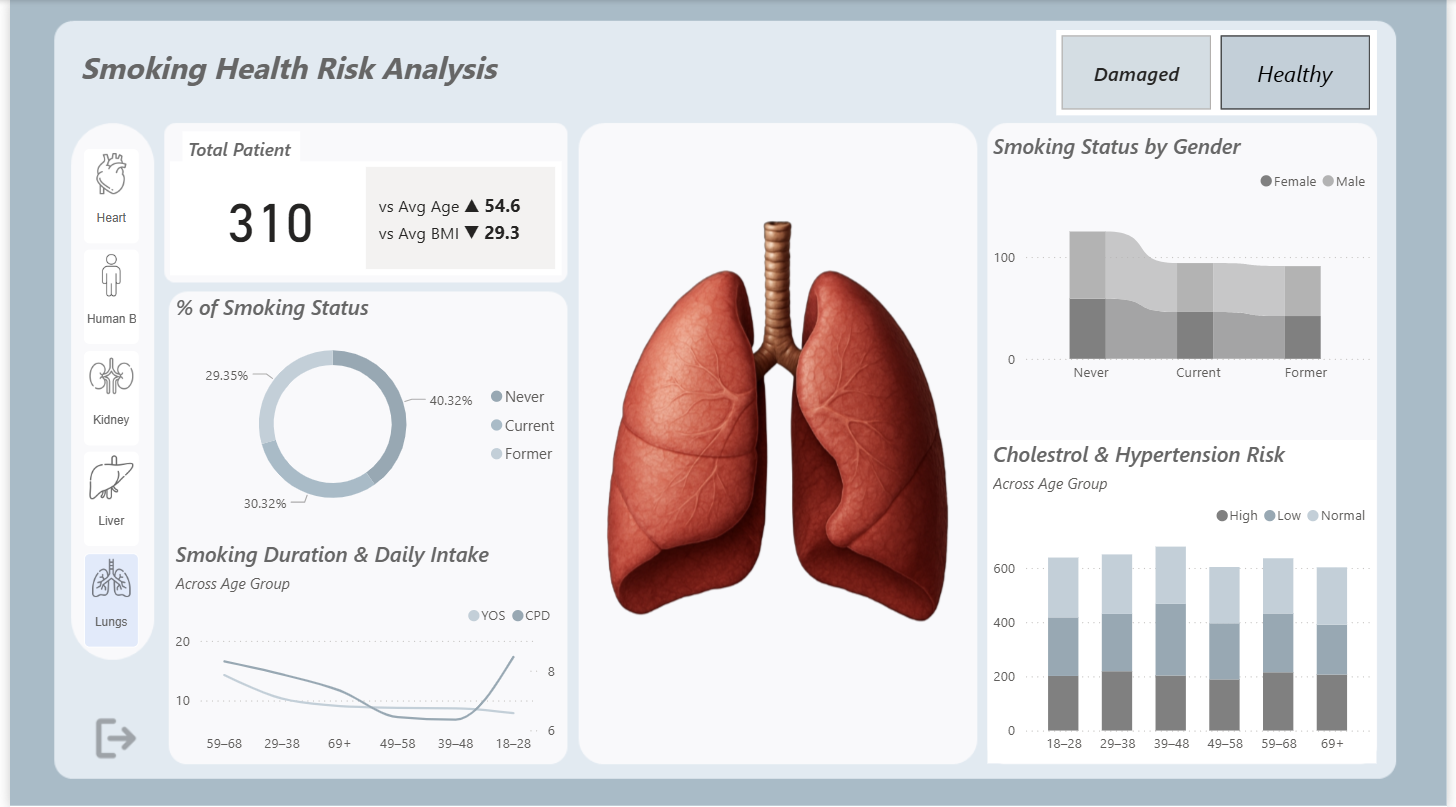

The dashboard page shown, as its layout file describes it:
{"tool":"powerbi","page":{"name":"Page 1","canvas":[1280,720],"ordinal":0},"visuals":[{"type":"cardVisual","fields":{"Data":["CountNonNull(health_dataset.Patient_ID)"]},"box":[142.4,143.6,348.7,101.3],"z":0},{"type":"textbox","box":[153.2,117,105,37.4],"z":1000},{"type":"advancedSlicerVisual","fields":{"Values":["condition.Organ_Condition"]},"box":[931.4,26.5,285.9,76],"z":2000},{"type":"ChicletSlicer1448559807354","fields":{"Category":["Organs.Organ"],"Image":["Organs.Icon_URL"]},"box":[57.9,124.3,72.4,469.3],"z":3000},{"type":"simpleImageEBC4593F96F1425FB3D84C5BF02B5075","fields":{"imageURL":["Image Dataset.Image URL"]},"box":[520,102.5,330.6,577.9],"z":4000},{"type":"donutChart","title":"% of Smoking Status","fields":{"Category":["health_dataset.Smoking_Status"],"Y":["CountNonNull(health_dataset.Smoking_Status)"]},"box":[142.4,260.6,357.1,209.9],"z":5000},{"type":"lineChart","title":"Smoking Duration & Daily Intake","fields":{"Category":["health_dataset.Age Group"],"Y":["Avg(health_dataset.Years_of_Smoking)"],"Y2":["Avg(health_dataset.Cigarettes_Per_Day)"]},"box":[142.4,481.4,348.7,199.1],"z":6000},{"type":"ribbonChart","title":"Smoking Status by Gender","fields":{"Category":["health_dataset.Smoking_Status"],"Y":["CountNonNull(health_dataset.Patient_ID)"],"Series":["health_dataset.Gender"]},"box":[871.1,117,346.2,232.8],"z":7000},{"type":"columnChart","title":"Cholestrol & Hypertension Risk","fields":{"Category":["health_dataset.Age Group"],"Y":["Avg(health_dataset.Cholesterol_Level)"],"Series":["health_dataset.BP_Risk"]},"box":[871.1,392.1,346.2,288.3],"z":8000},{"type":"textbox","box":[57.9,36.2,382.4,53.1],"z":9000}]}

Visuals, with their boxes in screenshot pixels (x1, y1, x2, y2), scaled from the page's 1280x720 canvas onto the 1456x807 screenshot:
cardVisual - CountNonNull(health_dataset.Patient_ID): <region>162, 161, 559, 274</region>
textbox: <region>174, 131, 294, 173</region>
advancedSlicerVisual - condition.Organ_Condition: <region>1059, 30, 1385, 115</region>
ChicletSlicer1448559807354 - Organs.Organ x Organs.Icon_URL: <region>66, 139, 148, 665</region>
simpleImageEBC4593F96F1425FB3D84C5BF02B5075 - Image Dataset.Image URL: <region>592, 115, 968, 763</region>
"% of Smoking Status" donutChart: <region>162, 292, 568, 527</region>
"Smoking Duration & Daily Intake" lineChart: <region>162, 540, 559, 763</region>
"Smoking Status by Gender" ribbonChart: <region>991, 131, 1385, 392</region>
"Cholestrol & Hypertension Risk" columnChart: <region>991, 439, 1385, 763</region>
textbox: <region>66, 41, 501, 100</region>
